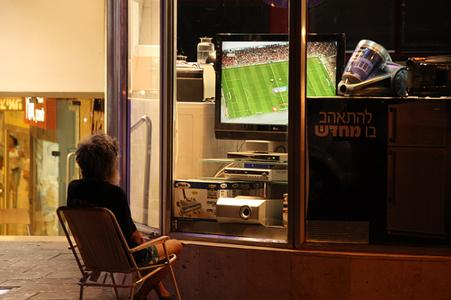person: (64, 137, 183, 297)
